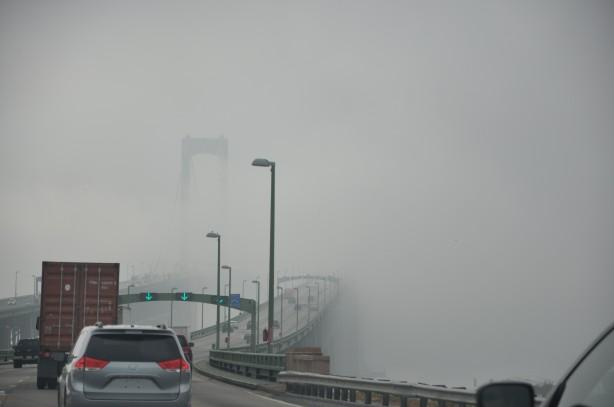bus: (35, 257, 126, 391)
car: (53, 320, 196, 407), (155, 334, 196, 370), (11, 338, 48, 368), (267, 318, 281, 328)
